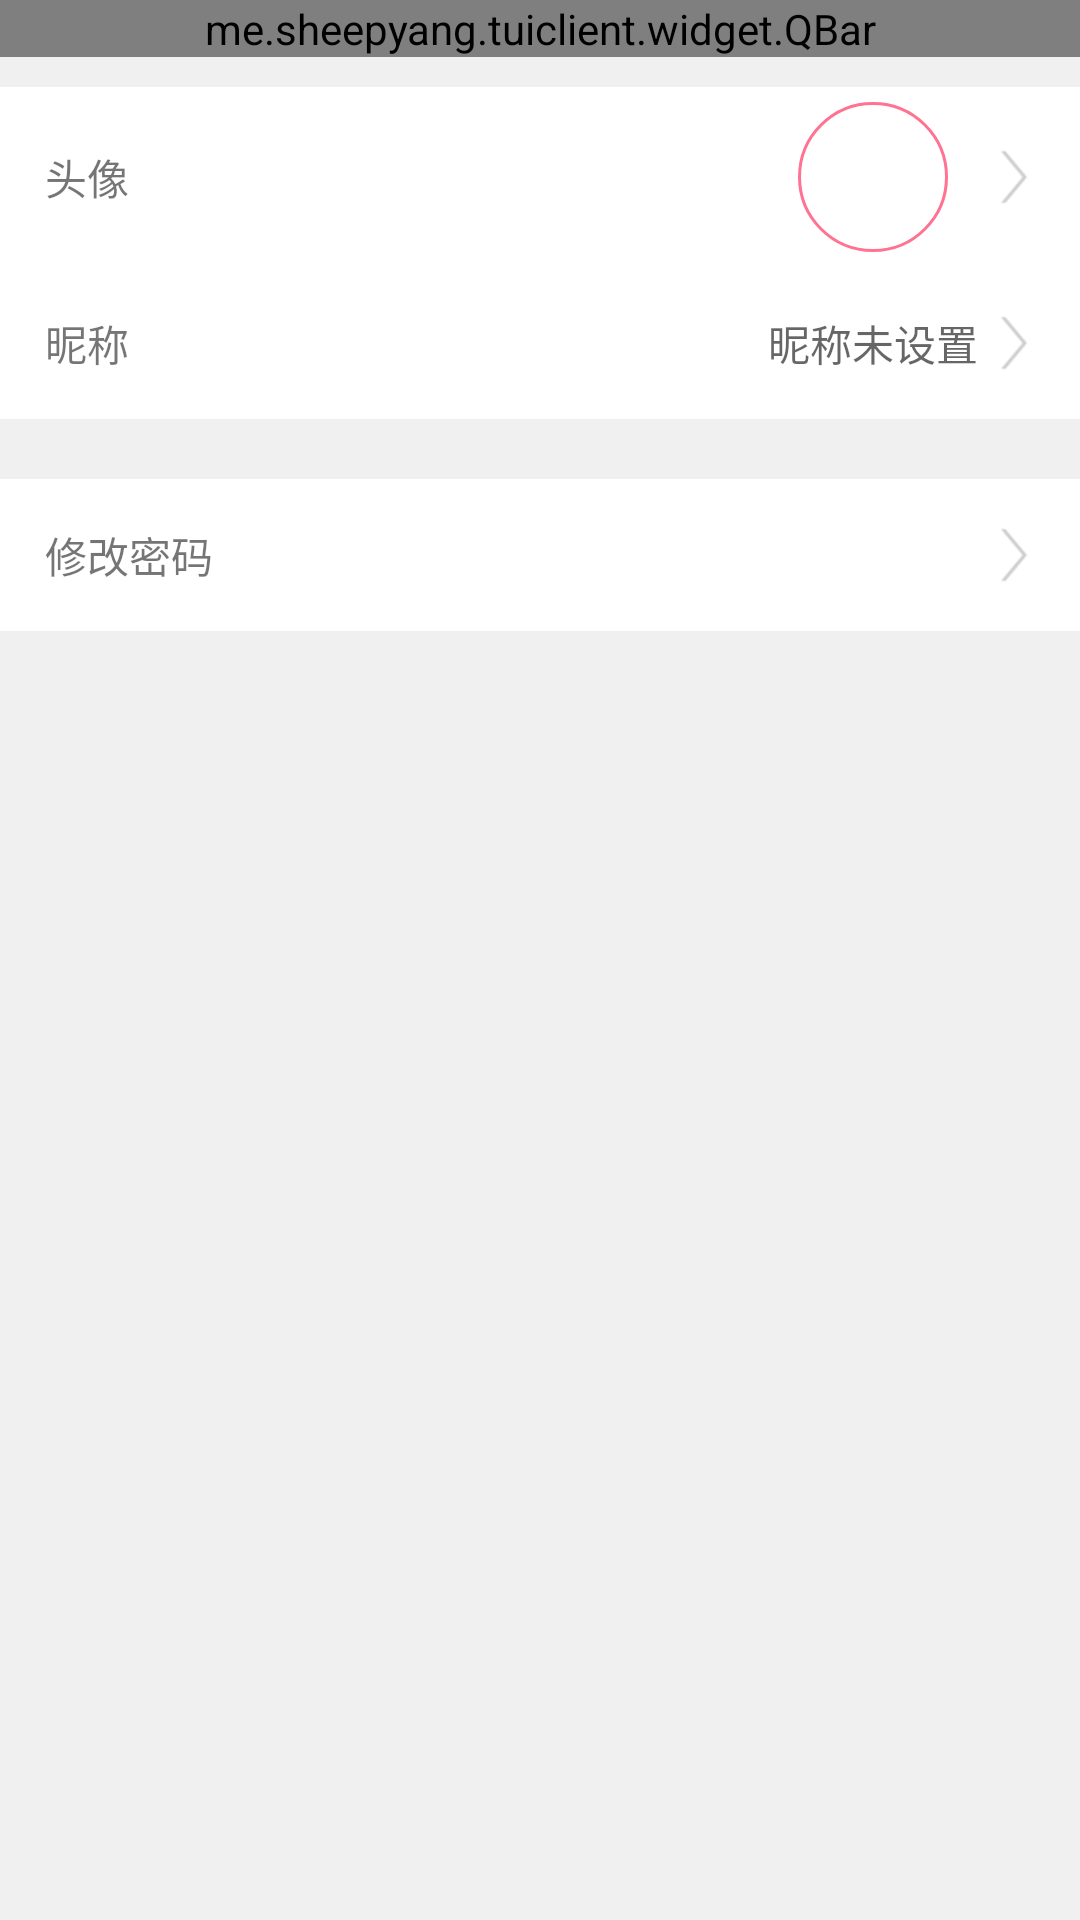

Screen size 1080 × 1920. Icon name, then its box in pixels as box=[x1, y1, x2, y2]:
arrow right: box=[1002, 151, 1026, 203], box=[1002, 317, 1026, 369], box=[1002, 529, 1026, 581]
